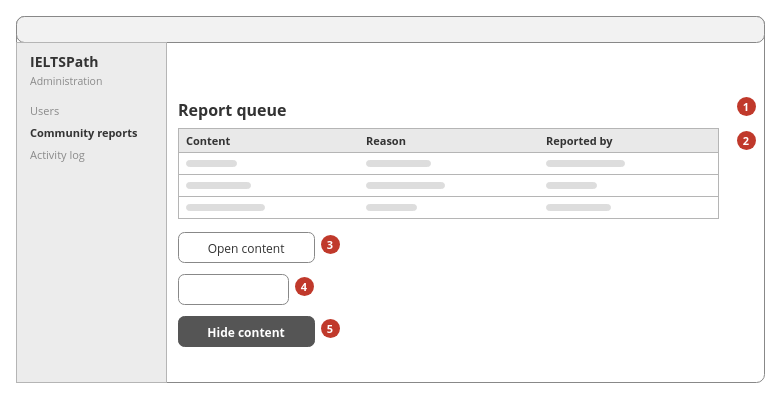
The diagram is 781 pixels wide and 399 high, and some of its shapes have lost their labels. The centre of each missing label's shape, as x and y in pixels:
"Dismiss" goes at point 233,289.
"IELTSPath - Community Reports" goes at point 390,29.
